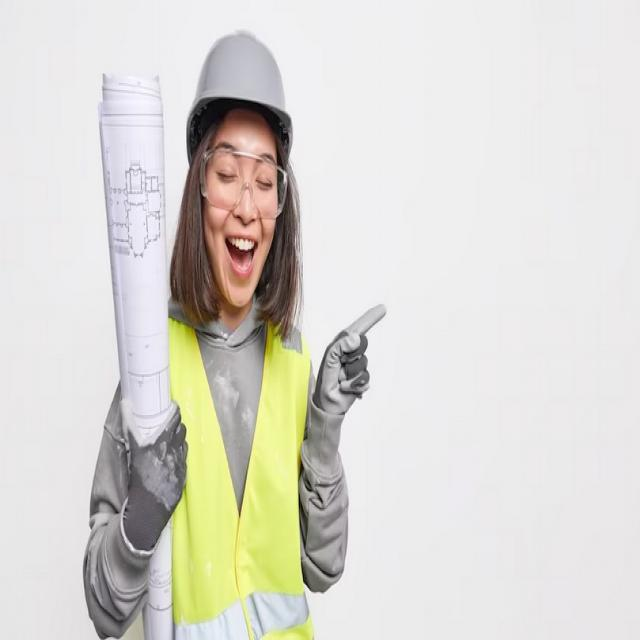helmet: (178, 16, 304, 169)
